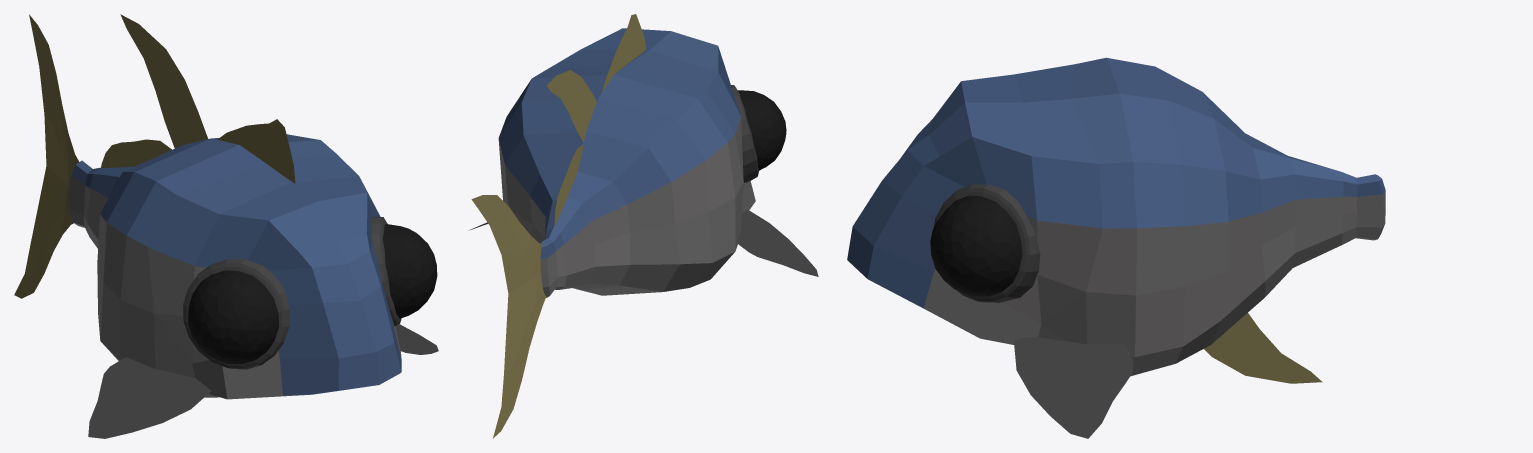
The model's file is Tuna.glb.
3 renders of one model, left to right at view 1: azimuth 30°, elevation 25°; view 2: azimuth 150°, elevation 25°; view 3: azimuth 270°, elevation 25°, orthographic. The views are drawn at different scales.
Parts seen in each view (by area): view 1: Tuna_Icosphere.031; view 2: Tuna_Icosphere.031; view 3: Tuna_Icosphere.031.
Part boxes in pixels (left/top/right/bottom): Tuna_Icosphere.031: left=14, top=14, right=438, bottom=438; Tuna_Icosphere.031: left=469, top=14, right=818, bottom=438; Tuna_Icosphere.031: left=847, top=57, right=1385, bottom=438.
Size of the model in its own units: 3.86 by 3.51 by 5.61.
Materials: 1 (1 with a texture image).
